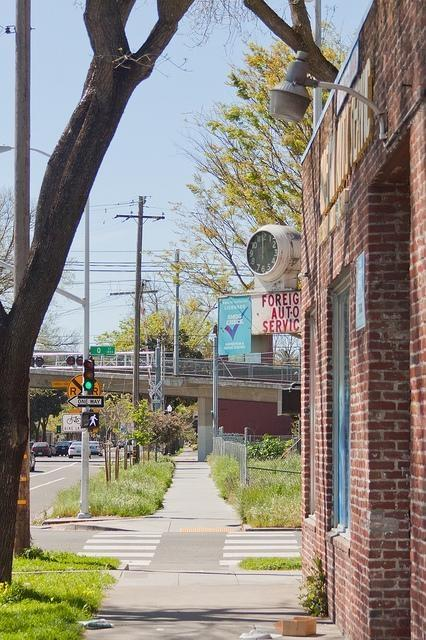car: (68, 442, 92, 459), (31, 442, 52, 458), (55, 442, 71, 457), (89, 441, 104, 456), (30, 451, 36, 472), (124, 438, 136, 448)
